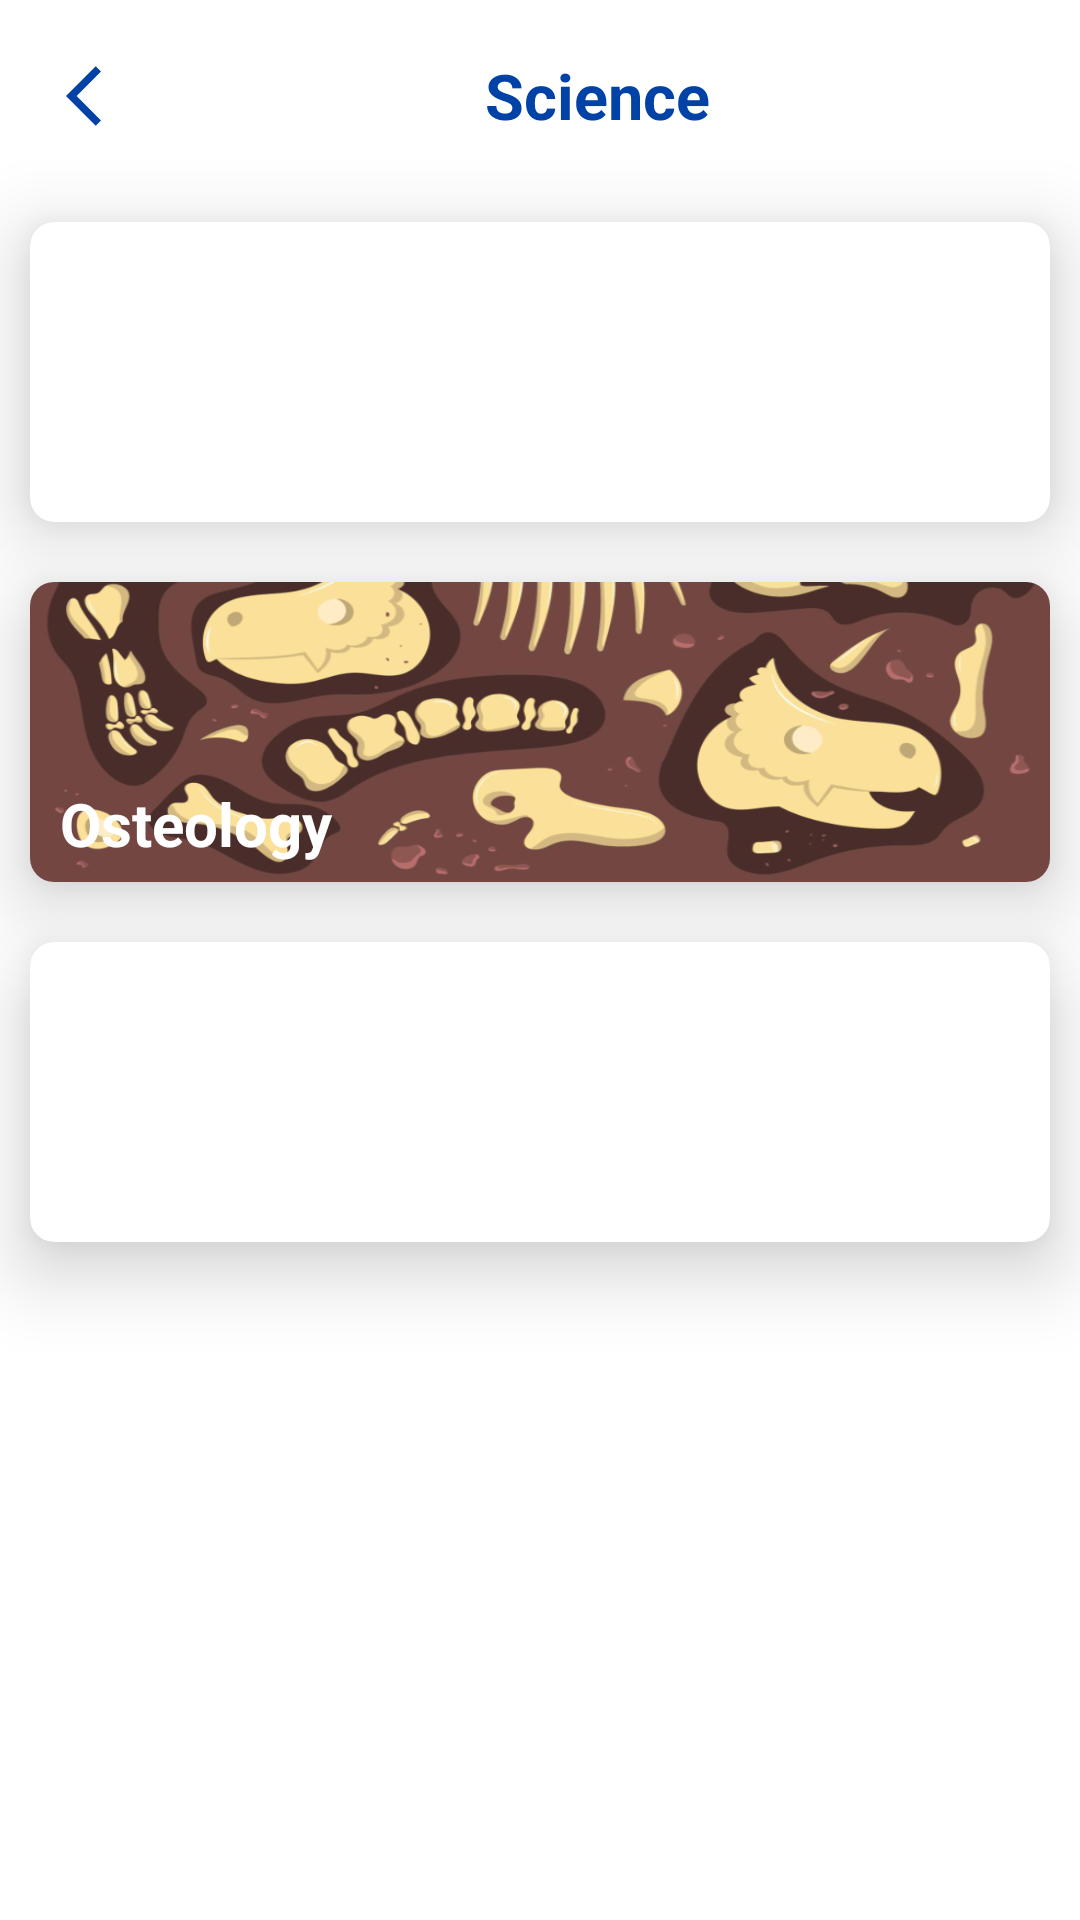

Locate icon controls on the screen. Image size 1080x1920, boxes as [left=x1, top=y1, right=x2, bottom=y2].
back: [left=66, top=66, right=101, bottom=126]
